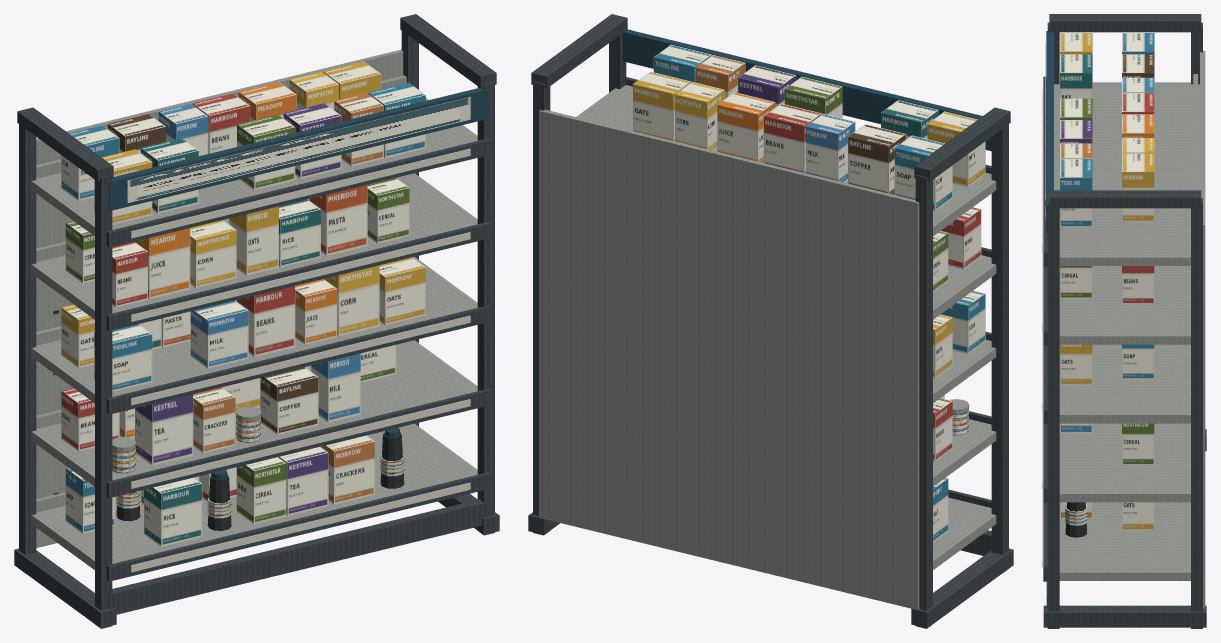
The model's file is PZ_Market_Stocked_Shelf_2m.glb.
3 renders of one model, left to right at view 1: azimuth 30°, elevation 25°; view 2: azimuth 150°, elevation 25°; view 3: azimuth 270°, elevation 25°, orthographic. The views are drawn at different scales.
Visible parts, largest first — view 1: FootGuard, Shelf_01_SteelTray, Shelf_02_SteelTray, Headboard_SignPrint, Rear_SolidPunchedBackPanel, L_Upright_Back, L_Upright_Front, Shelf_03_SteelTray, Shelf_04_SteelTray, R_Upright_Front, Headboard_SignPlate, Shelf_05_SteelTray (+57 smaller); view 2: Rear_SolidPunchedBackPanel, L_Upright_Front, L_Upright_Back, Headboard_SignPlate, Shelf_05_SteelTray, L5_R2_S2_Bayline_Coffee_Box, L5_R2_S5_Meadow_Juice_Box, R_Upright_Back, L5_R2_S4_Harbour_Beans_Box, L_FootRail, L5_R2_S7_Morrow_Oats_Box, L5_R2_S6_Northstar_Corn_Box (+21 smaller); view 3: Shelf_05_SteelTray, Shelf_02_SteelTray, Shelf_01_SteelTray, Shelf_04_SteelTray, Shelf_03_SteelTray, R_Upright_Front, R_Upright_Back, R_FootRail, L_EndCap, R_EndCap, Rear_SolidPunchedBackPanel, L5_R1_S7_Tideline_Soap_Box (+30 smaller).
Boxes of the visible parts, left/top/right/bottom form: FootGuard: left=108, top=499, right=488, bottom=614; Shelf_01_SteelTray: left=31, top=423, right=477, bottom=569; Shelf_02_SteelTray: left=31, top=340, right=477, bottom=486; Headboard_SignPrint: left=127, top=97, right=470, bottom=202; Rear_SolidPunchedBackPanel: left=36, top=49, right=403, bottom=547; L_Upright_Back: left=19, top=124, right=36, bottom=572; L_Upright_Front: left=95, top=175, right=112, bottom=628; Shelf_03_SteelTray: left=31, top=256, right=477, bottom=402; Shelf_04_SteelTray: left=31, top=173, right=477, bottom=319; R_Upright_Front: left=477, top=81, right=494, bottom=535; Headboard_SignPlate: left=108, top=88, right=488, bottom=211; Shelf_05_SteelTray: left=31, top=98, right=477, bottom=235; Rear_SolidPunchedBackPanel: left=539, top=109, right=919, bottom=609; L_Upright_Front: left=991, top=124, right=1008, bottom=572; L_Upright_Back: left=915, top=175, right=932, bottom=628; Headboard_SignPlate: left=623, top=29, right=991, bottom=151; Shelf_05_SteelTray: left=576, top=85, right=996, bottom=235; L5_R2_S2_Bayline_Coffee_Box: left=848, top=124, right=906, bottom=194; L5_R2_S5_Meadow_Juice_Box: left=717, top=92, right=775, bottom=162; R_Upright_Back: left=533, top=81, right=550, bottom=535; L5_R2_S4_Harbour_Beans_Box: left=763, top=103, right=821, bottom=172; L_FootRail: left=911, top=548, right=1013, bottom=628; L5_R2_S7_Morrow_Oats_Box: left=633, top=71, right=690, bottom=141; L5_R2_S6_Northstar_Corn_Box: left=675, top=82, right=724, bottom=150; Shelf_05_SteelTray: left=1054, top=82, right=1199, bottom=265; Shelf_02_SteelTray: left=1059, top=423, right=1190, bottom=502; Shelf_01_SteelTray: left=1059, top=502, right=1190, bottom=580; Shelf_04_SteelTray: left=1059, top=266, right=1190, bottom=344; Shelf_03_SteelTray: left=1059, top=344, right=1190, bottom=423; R_Upright_Front: left=1047, top=198, right=1059, bottom=628; R_Upright_Back: left=1191, top=198, right=1202, bottom=628; R_FootRail: left=1043, top=605, right=1206, bottom=627; L_EndCap: left=1049, top=14, right=1201, bottom=32; R_EndCap: left=1049, top=190, right=1201, bottom=208; Rear_SolidPunchedBackPanel: left=1200, top=50, right=1205, bottom=608; L5_R1_S7_Tideline_Soap_Box: left=1060, top=158, right=1092, bottom=227.
Size of the model in its own units: 2 by 2.2 by 0.757.
Materials: 6 (6 with a texture image).
